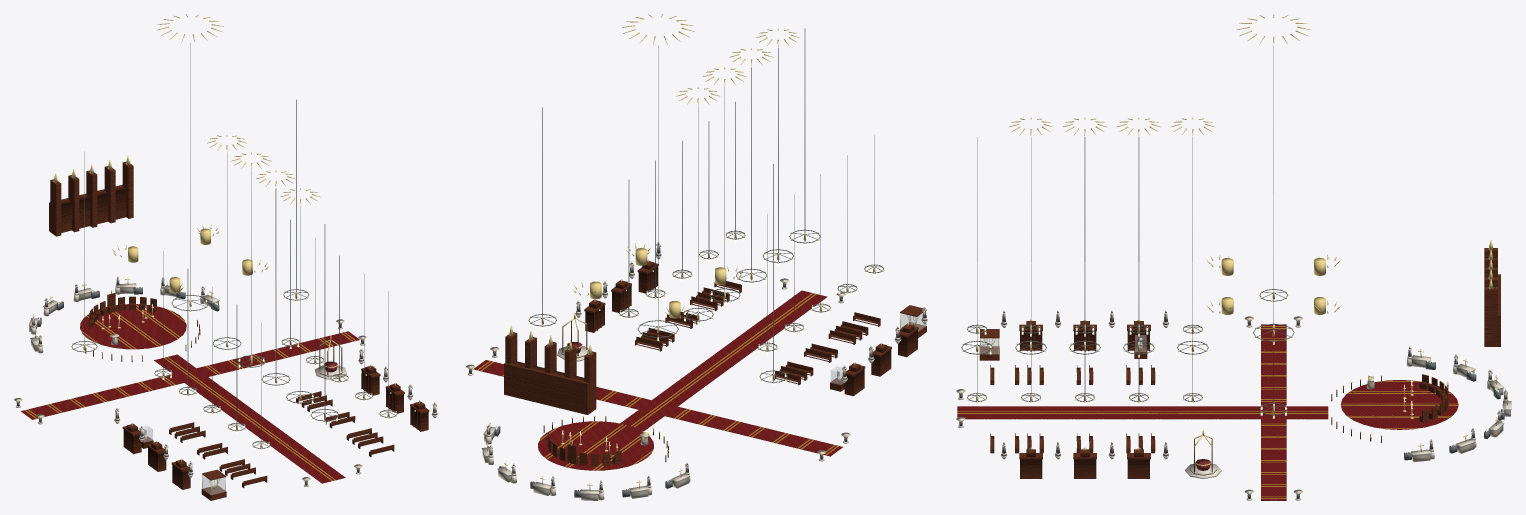
File: furnishings.glb
3 views of the same model, side by side, from view 1: azimuth 30°, elevation 25°; view 2: azimuth 150°, elevation 25°; view 3: azimuth 270°, elevation 25° (orthographic). The views are drawn at different scales.
Parts seen in each view (by area): view 1: Furnish_CrimsonCarpet, Furnish_CarvedOak, Furnish_ChandelierIron, Furnish_GoldAccents, Furnish_MarbleLiturgical, Furnish_LanternAndCandleGlow, Furnish_MuseumGlassCases; view 2: Furnish_CrimsonCarpet, Furnish_CarvedOak, Furnish_ChandelierIron, Furnish_GoldAccents, Furnish_MarbleLiturgical, Furnish_LanternAndCandleGlow; view 3: Furnish_CrimsonCarpet, Furnish_CarvedOak, Furnish_ChandelierIron, Furnish_GoldAccents, Furnish_MarbleLiturgical, Furnish_LanternAndCandleGlow.
Boxes of the visible parts, x1,y1,x2,y2 form: Furnish_CrimsonCarpet: (21,304,359,483); Furnish_CarvedOak: (49,161,429,500); Furnish_ChandelierIron: (34,43,397,448); Furnish_GoldAccents: (14,14,420,494); Furnish_MarbleLiturgical: (14,276,437,486); Furnish_LanternAndCandleGlow: (36,286,415,451); Furnish_MuseumGlassCases: (138,425,225,494); Furnish_CrimsonCarpet: (473,290,842,470); Furnish_CarvedOak: (504,261,926,466); Furnish_ChandelierIron: (487,28,883,497); Furnish_GoldAccents: (466,14,926,491); Furnish_MarbleLiturgical: (466,242,927,500); Furnish_LanternAndCandleGlow: (489,230,883,490); Furnish_CrimsonCarpet: (957,324,1458,500); Furnish_CarvedOak: (979,248,1500,478); Furnish_ChandelierIron: (961,46,1504,460); Furnish_GoldAccents: (956,14,1507,493); Furnish_MarbleLiturgical: (956,310,1511,500); Furnish_LanternAndCandleGlow: (962,290,1503,453).
Bounding box in the file's own units: 58.27 × 59.27 × 77.23.
9 materials, 5 textured.
